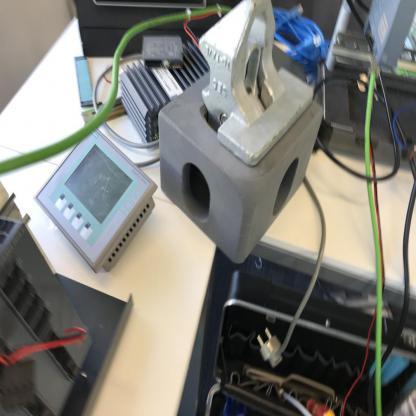CornerCasting: (158, 83, 326, 269)
Twistlock: (184, 0, 322, 169)
